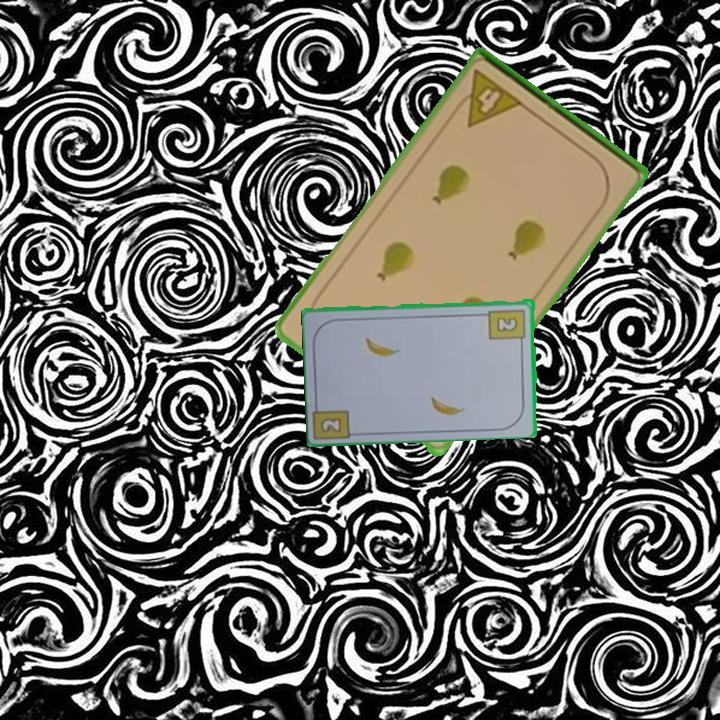2b: (486, 305, 529, 347), (317, 414, 345, 435)
4p: (448, 66, 527, 131)
